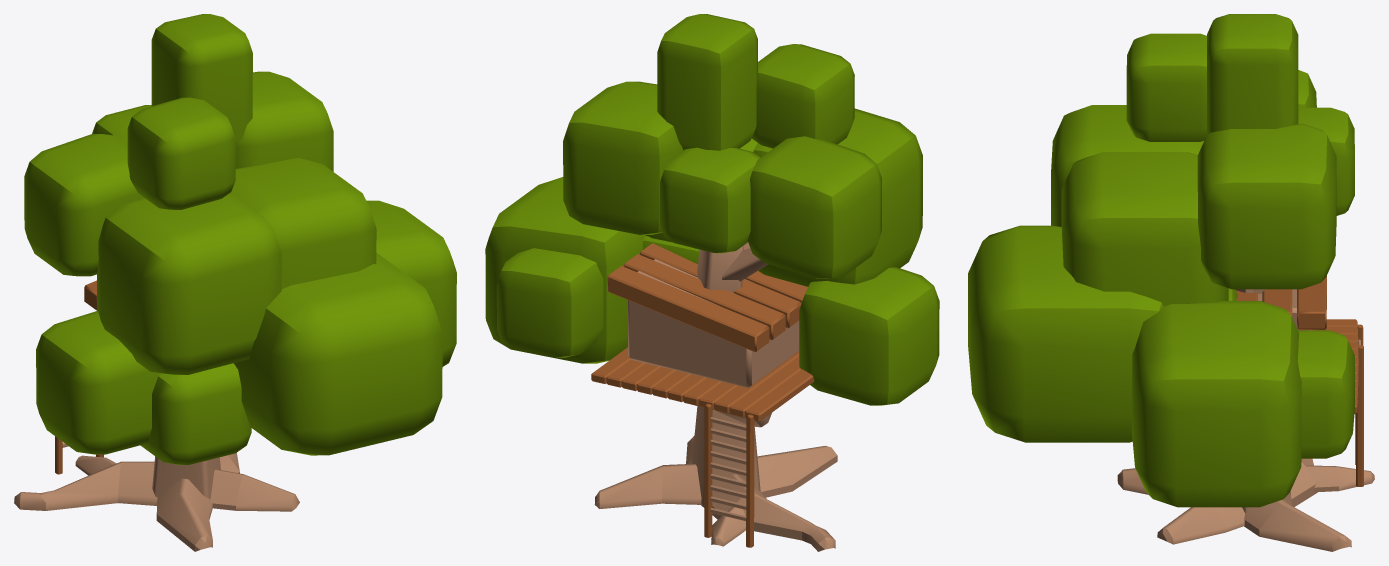
The model's file is SM_Pararie_Tree_02_Wind_anim.fbx.
3 views of the same model, side by side, from view 1: azimuth 30°, elevation 25°; view 2: azimuth 150°, elevation 25°; view 3: azimuth 270°, elevation 25° (orthographic). The views are drawn at different scales.
Visible parts, largest first — view 1: SM_Pararie_Tree_02; view 2: SM_Pararie_Tree_02; view 3: SM_Pararie_Tree_02.
Boxes of the visible parts, <box> form: SM_Pararie_Tree_02: <box>14,14,456,551</box>; SM_Pararie_Tree_02: <box>485,14,939,551</box>; SM_Pararie_Tree_02: <box>968,14,1374,551</box>.
Bounding box in the file's own units: 460 × 517 × 387.
